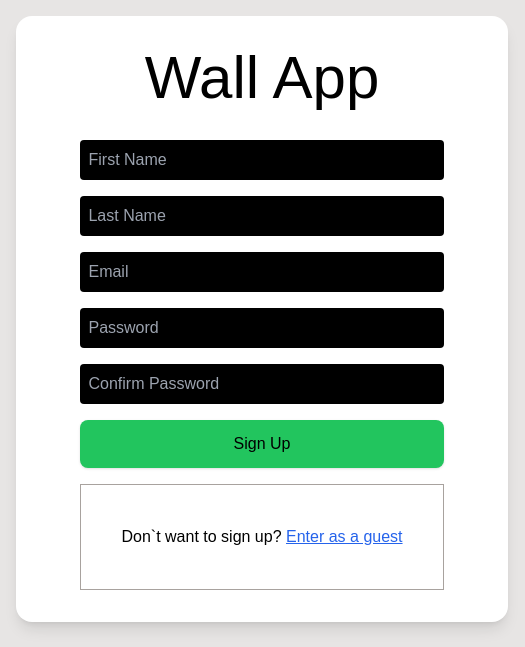
Scenario: Register › should register a new user
This screenshot has width=525, height=647.
Type "Pedro" into the field with test id "register-first-name" at (263, 160), box [81,140,444,180]
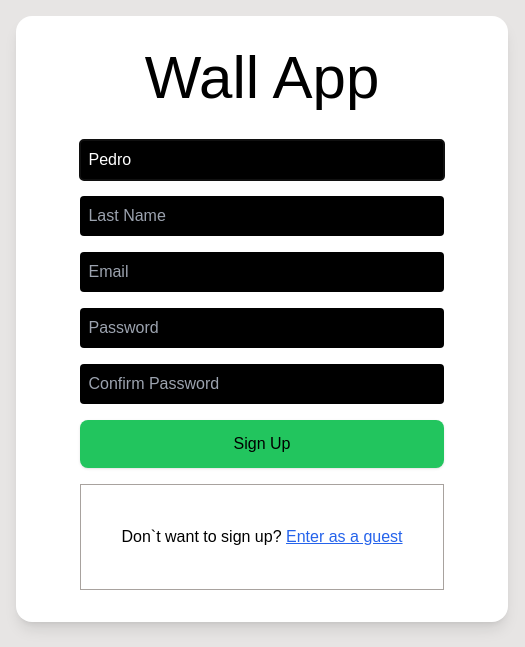
Type "Xablau" into the field with test id "register-last-name" at (263, 216), box [81,196,444,236]
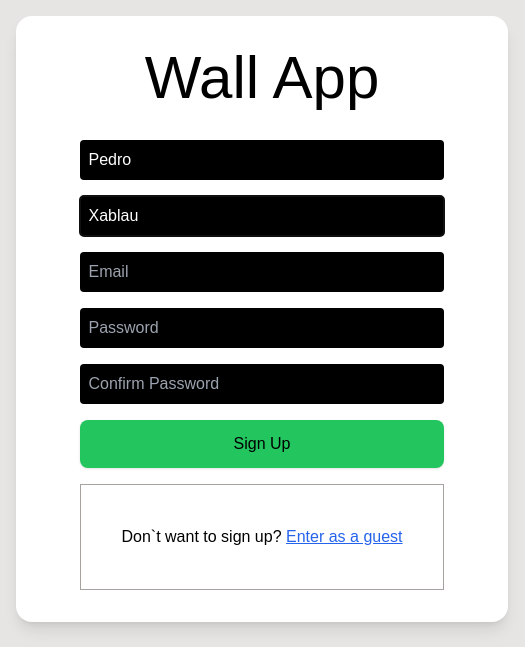
Type "pedro@test.com" into the field with test id "register-email" at (263, 272), box [81,252,444,292]
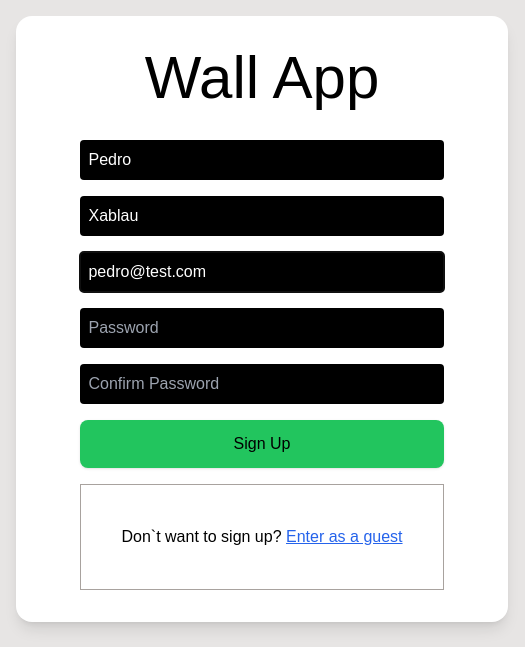
Type "12345678" into the password field with test id "register-password" at (263, 328), box [81,308,444,348]
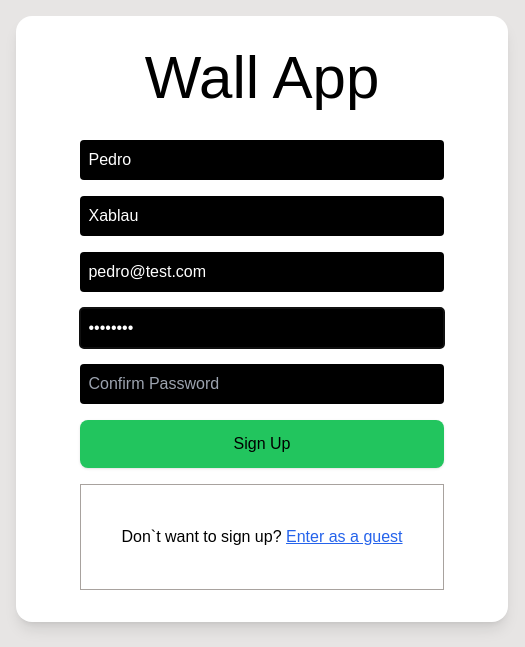
Type "12345678" into the password field with test id "register-confirm-password" at (263, 384), box [81,364,444,404]
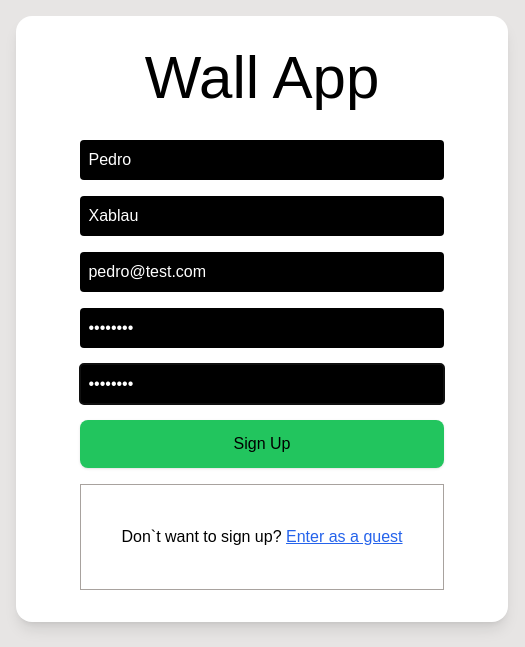
Click the button with test id "register-submit" at (263, 444), box [81,420,444,468]
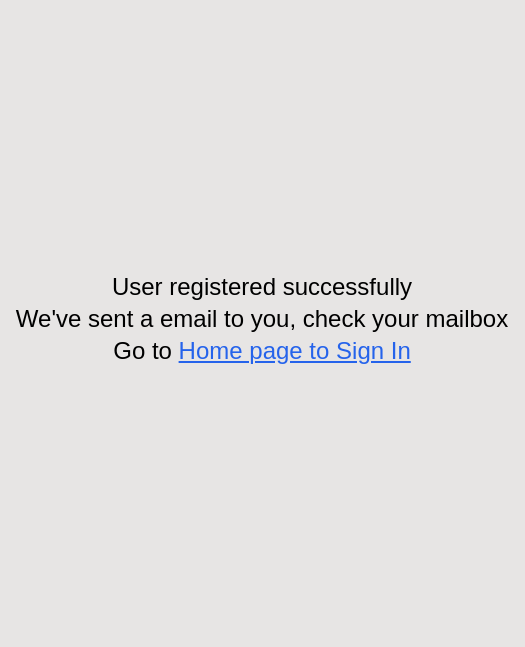
Expected: the text "User registered successfully" is shown, [112,271,412,303]
